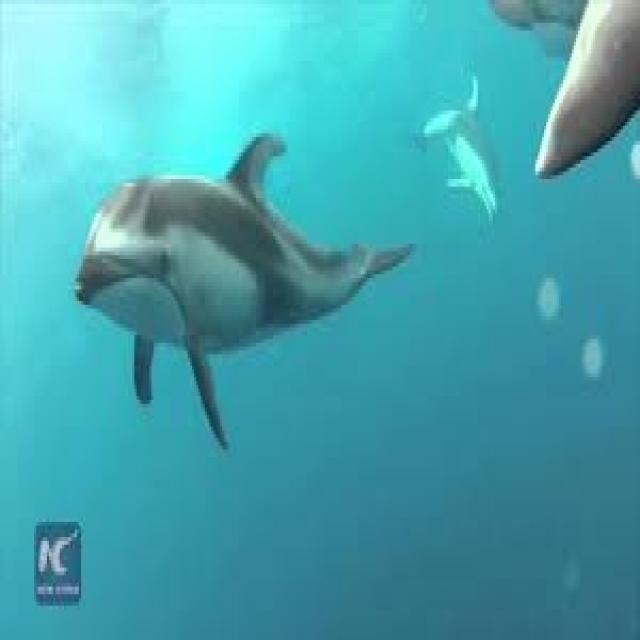dolphin: (58, 118, 426, 457)
